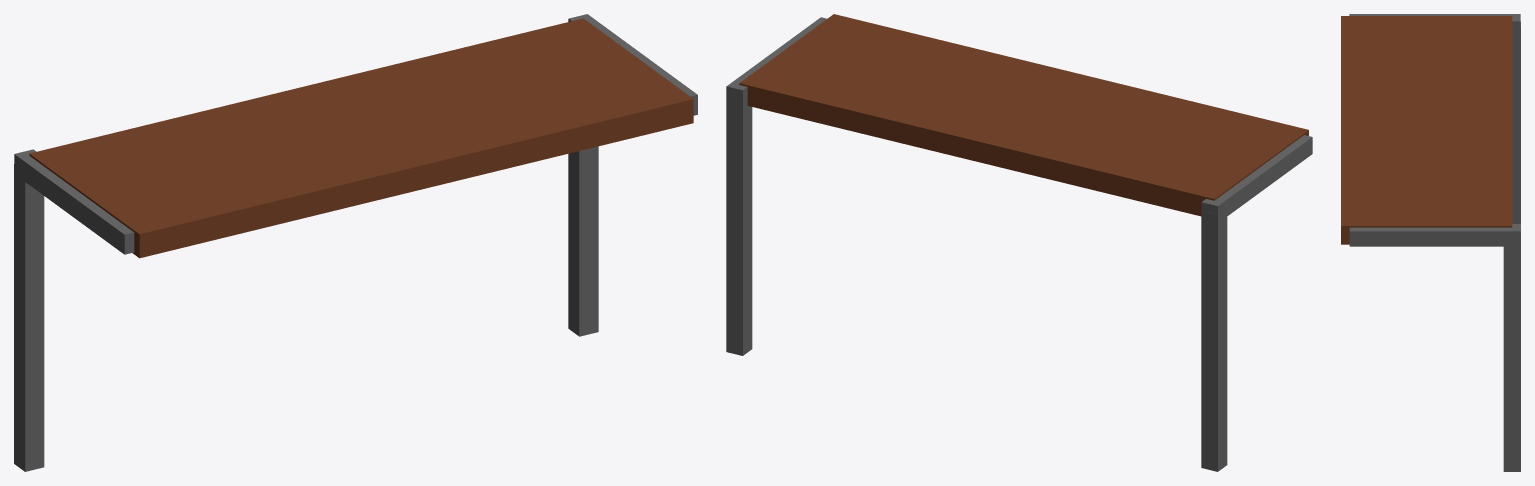
Rendered from VPT1.fbx.
The picture shows the model from 3 angles, left to right: view 1: azimuth 30°, elevation 25°; view 2: azimuth 150°, elevation 25°; view 3: azimuth 270°, elevation 25°; orthographic projection. The views are drawn at different scales.
Visible parts, largest first — view 1: Cube.062, Cube.063, Cube.064, Cube.005, Cube.019; view 2: Cube.062, Cube.063, Cube.064, Cube.005, Cube.019; view 3: Cube.062, Cube.064, Cube.019, Cube.063, Cube.005.
Boxes of the visible parts, box(x1,y1,x2,y2) form: Cube.062: box(29, 18, 693, 258); Cube.063: box(14, 164, 44, 471); Cube.064: box(568, 146, 598, 336); Cube.005: box(14, 149, 134, 254); Cube.019: box(568, 14, 697, 115); Cube.062: box(739, 14, 1308, 216); Cube.063: box(1201, 208, 1227, 471); Cube.064: box(726, 95, 752, 355); Cube.005: box(1201, 135, 1312, 215); Cube.019: box(726, 17, 826, 107); Cube.062: box(1341, 16, 1512, 244); Cube.064: box(1503, 239, 1520, 471); Cube.019: box(1349, 224, 1520, 246); Cube.063: box(1512, 22, 1520, 223); Cube.005: box(1349, 14, 1520, 36).
Bounding box in the file's own units: 300 × 156 × 105.
